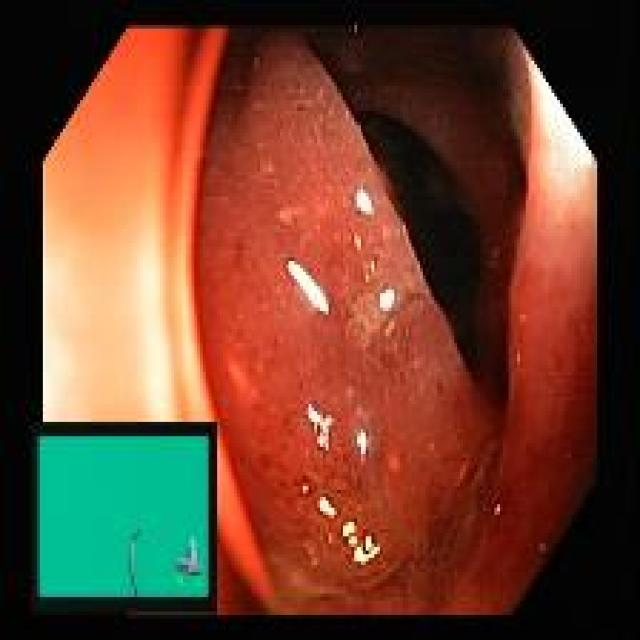ulcerative-colitis: (195, 30, 596, 613)
